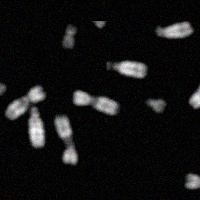chromosome: (4, 85, 45, 119), (54, 112, 77, 165), (72, 90, 119, 115), (26, 107, 45, 151), (104, 59, 147, 78), (189, 47, 200, 109), (155, 21, 193, 38), (61, 26, 77, 50), (145, 97, 166, 114), (184, 174, 200, 192), (0, 69, 9, 94)
